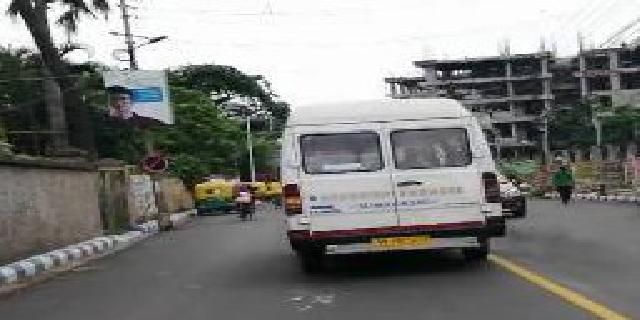Van: (277, 96, 513, 275)
